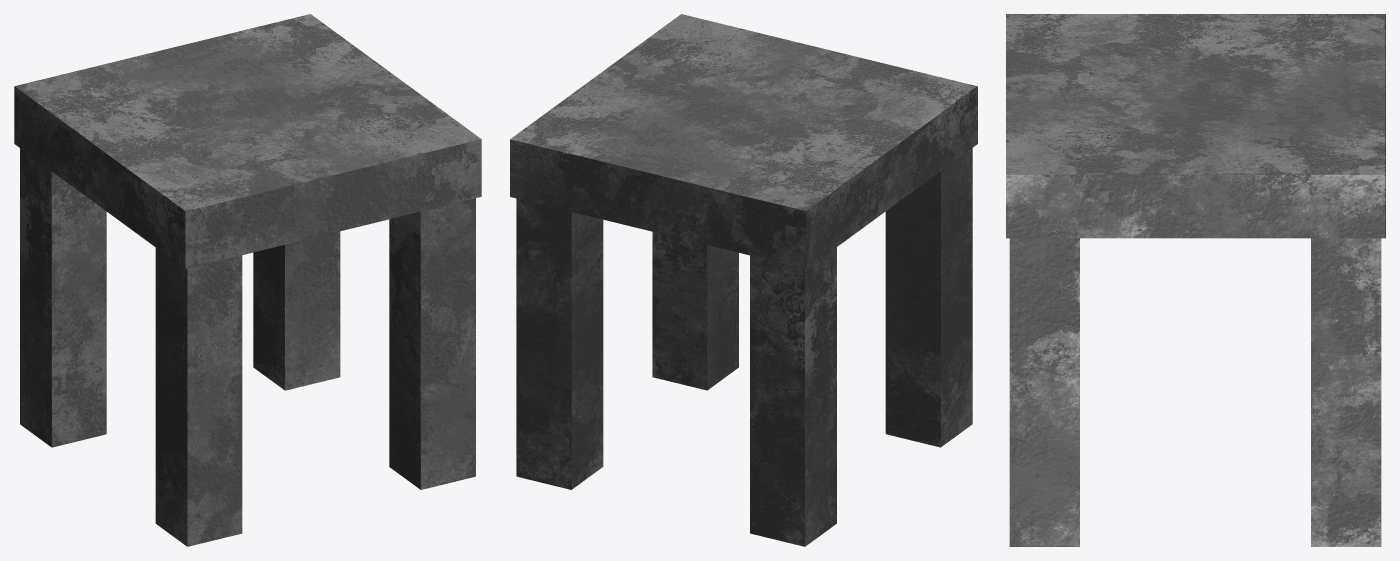
Rendered from Stool.fbx.
The picture shows the model from 3 angles, left to right: view 1: azimuth 30°, elevation 25°; view 2: azimuth 150°, elevation 25°; view 3: azimuth 270°, elevation 25°; orthographic projection. The views are drawn at different scales.
Visible parts, largest first — view 1: Stool; view 2: Stool; view 3: Stool.
Boxes of the visible parts, x1=… form: Stool: x1=14, y1=14, x2=481, y2=546; Stool: x1=510, y1=14, x2=977, y2=546; Stool: x1=1006, y1=14, x2=1385, y2=546.
Bounding box in the file's own units: 295 × 322 × 295.
Materials: 1 (1 with a texture image).
